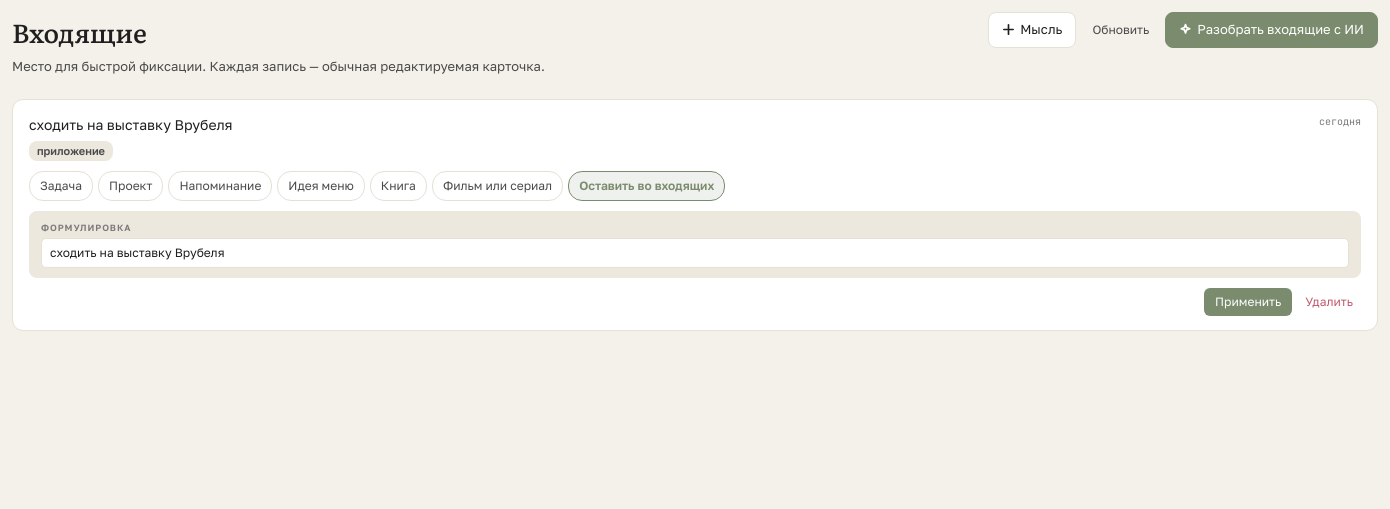
it: идея меню во входящих › показывает четыре параметра и не спрашивает категорию
Expected: the text "сходить на выставку Врубеля" is shown, [29,116,233,132]
тип выбирается чипом, а не выпадающим списком
Click the button "Идея меню".
click(321, 186)  # box [277,171,365,201]
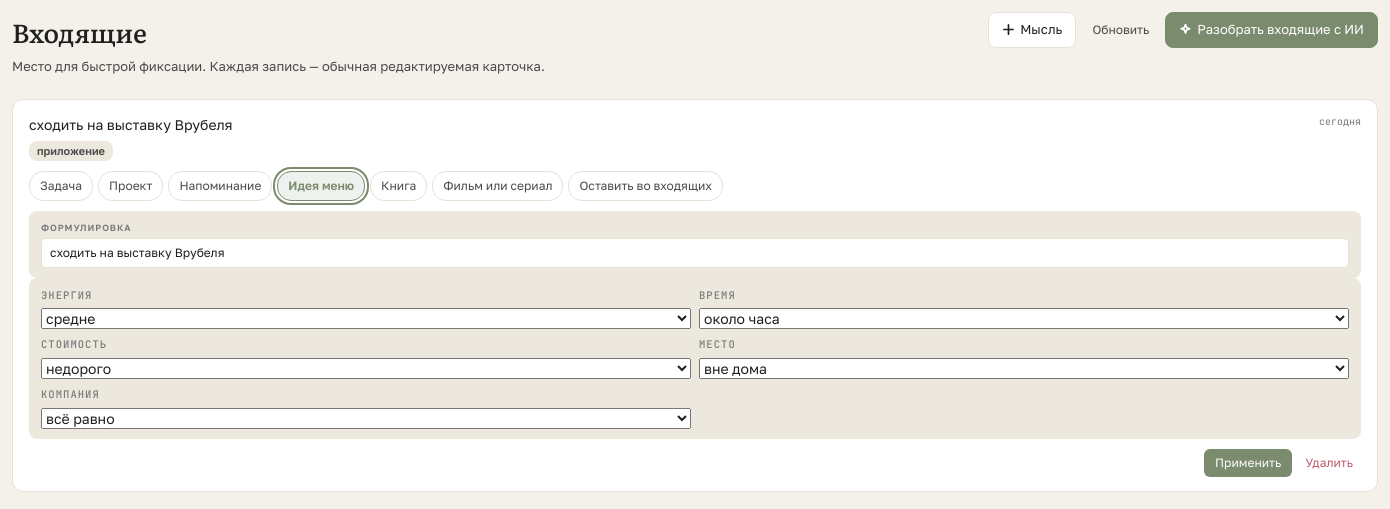
Expected: the text "Энергия" is shown, [41,288,92,302]
Expected: the text "Время" is shown, [699,288,736,302]
Expected: the text "Стоимость" is shown, [41,337,107,351]
